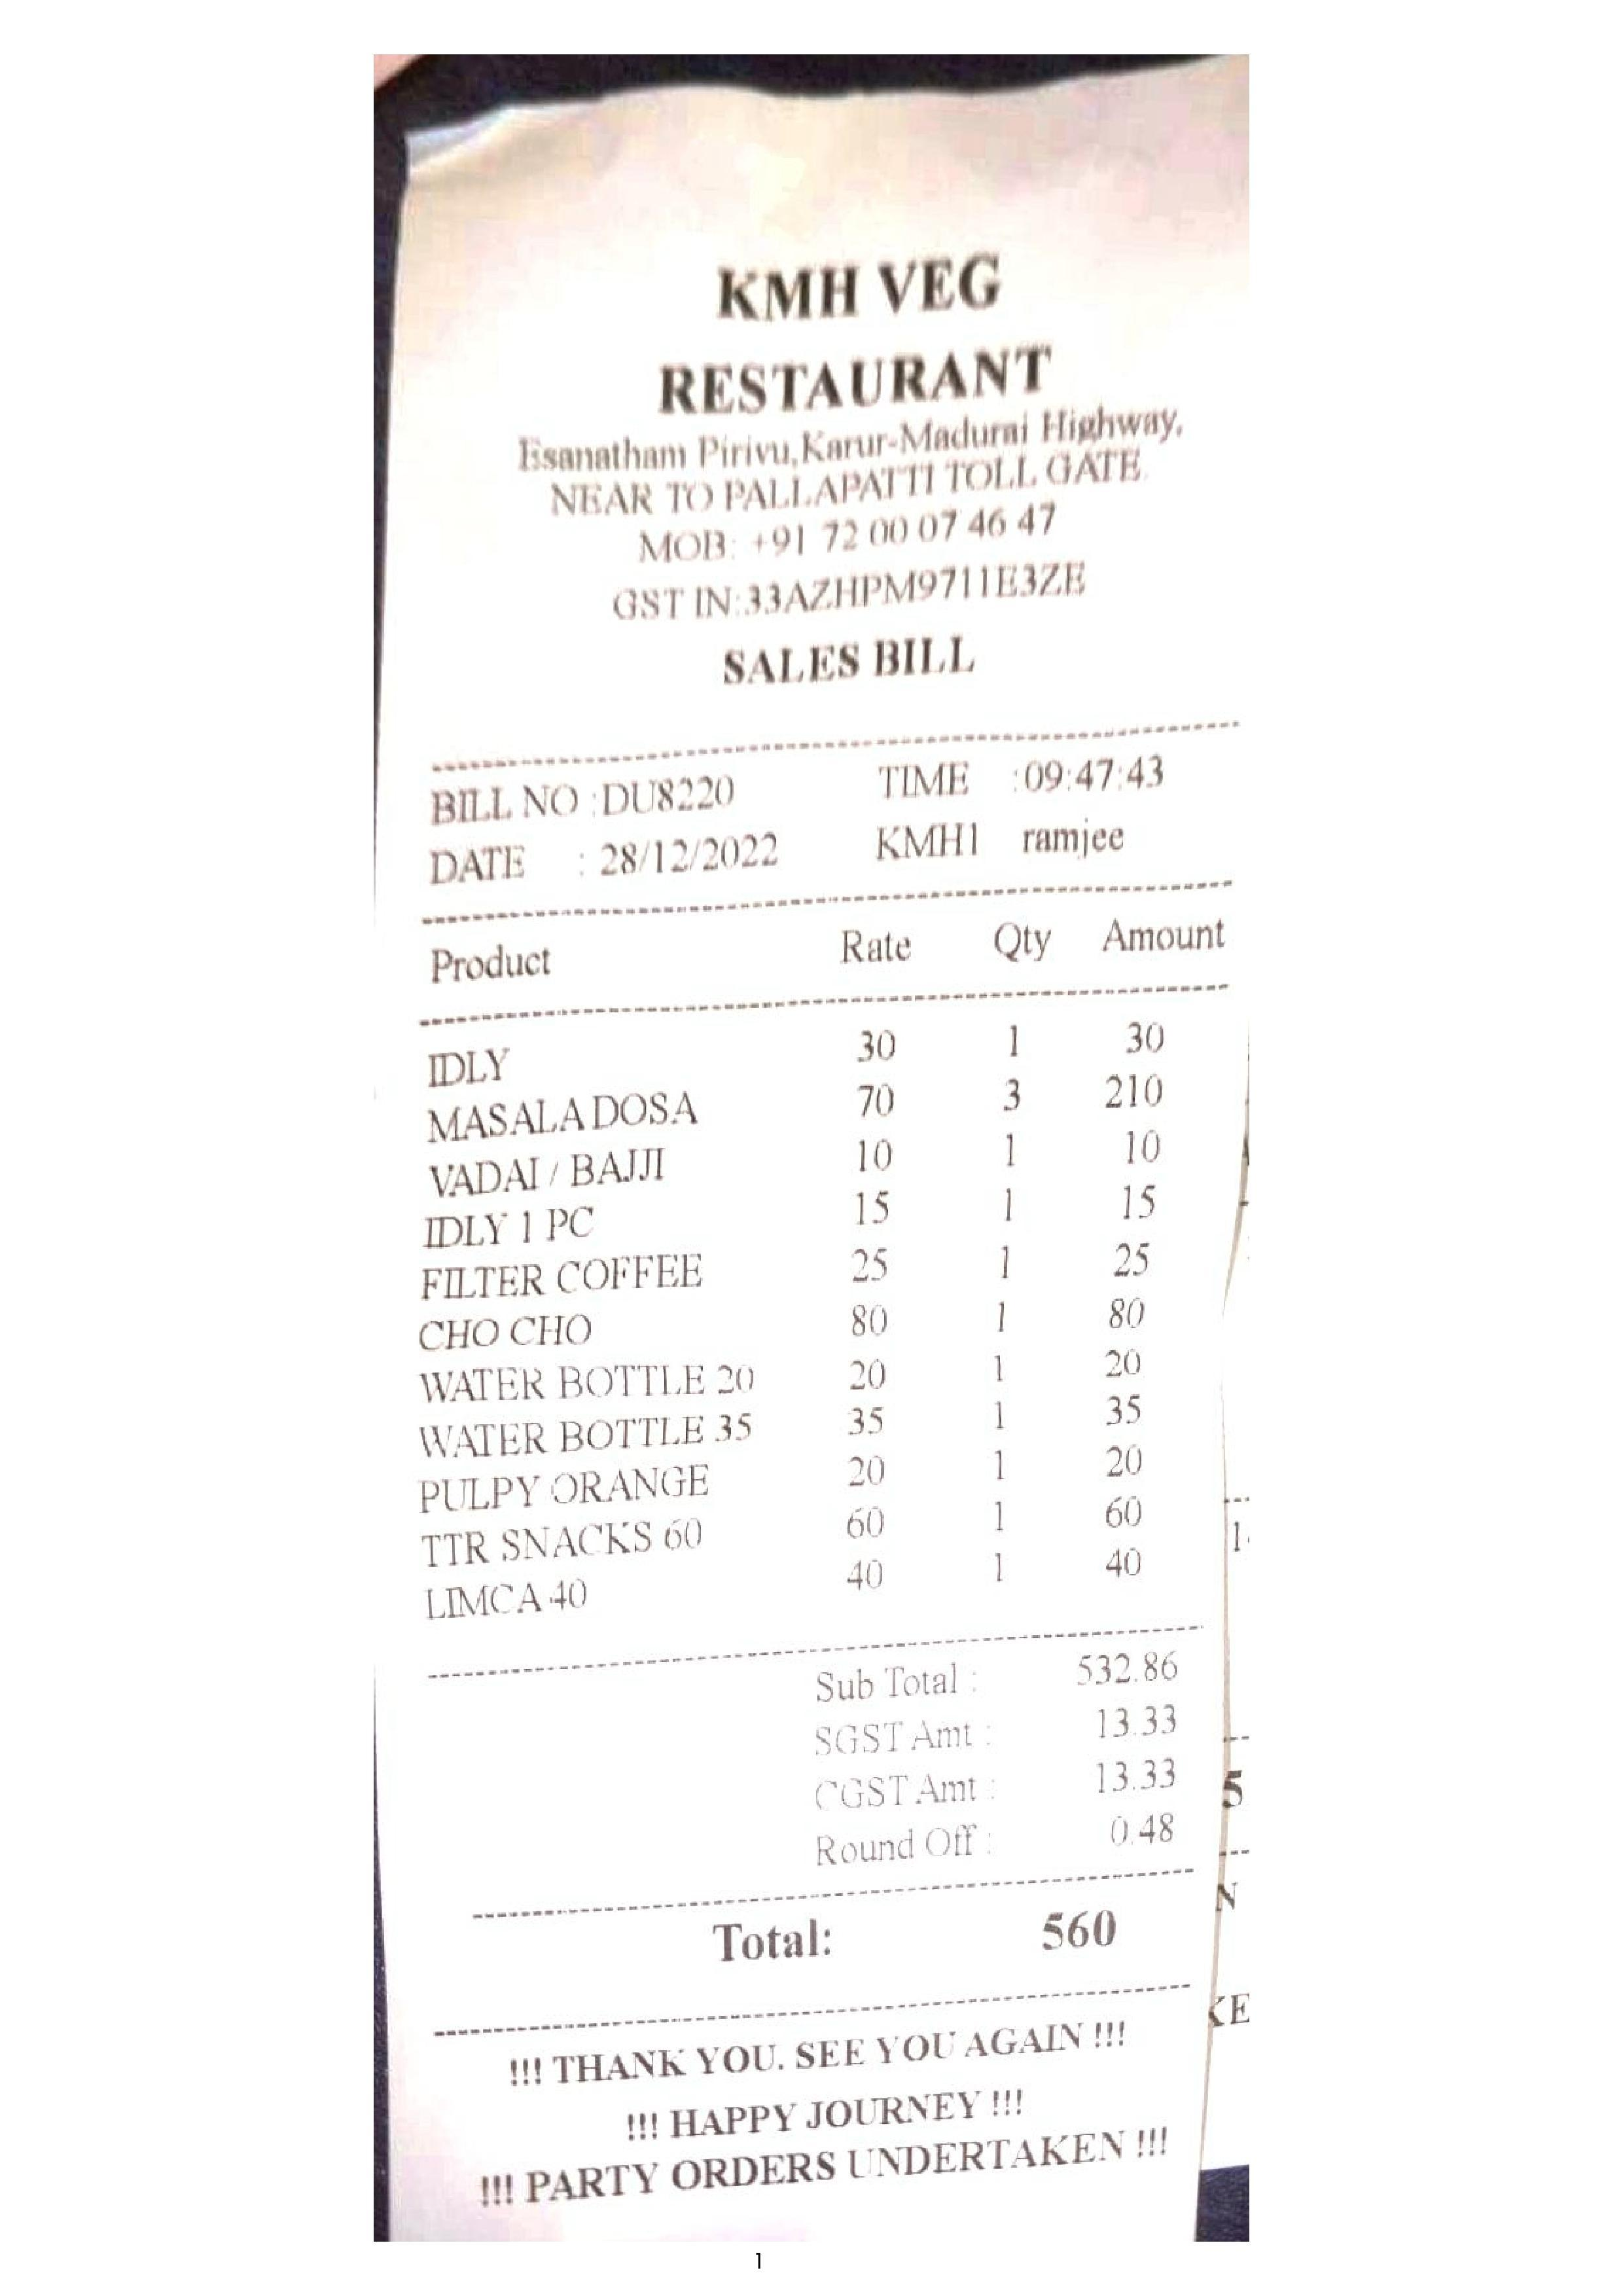InvoiceDate: (595, 831, 782, 878)
InvoiceNumber: (594, 768, 741, 815)
TotalAmount: (1029, 1897, 1129, 1960)
